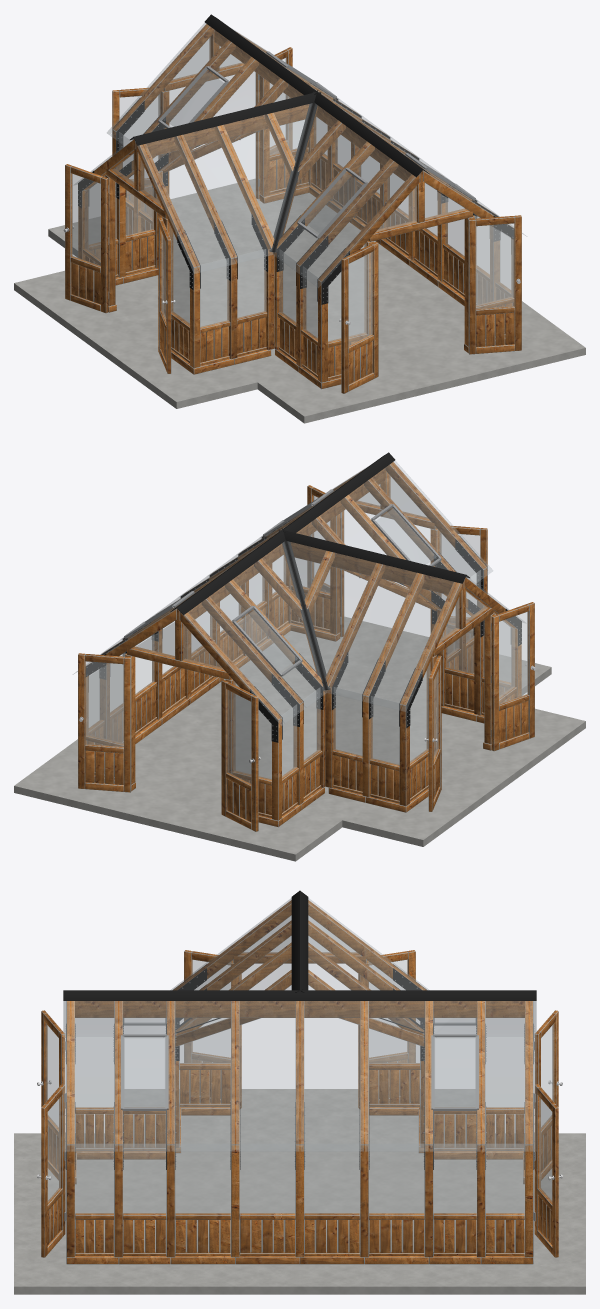
Rendered from nordwood-tshape.glb.
3 views of the same model, one above another, from view 1: azimuth 30°, elevation 25°; view 2: azimuth 150°, elevation 25°; view 3: azimuth 270°, elevation 25° (orthographic). The views are drawn at different scales.
Parts seen in each view (by area): view 1: nordwood-tshape; view 2: nordwood-tshape; view 3: nordwood-tshape.
Boxes of the visible parts, bbox=[...] form: nordwood-tshape: bbox=[14, 14, 585, 423]; nordwood-tshape: bbox=[14, 452, 585, 861]; nordwood-tshape: bbox=[14, 890, 585, 1294].
Size of the model in its own units: 5.43 by 2.91 by 6.64.
8 materials, 8 textured.
